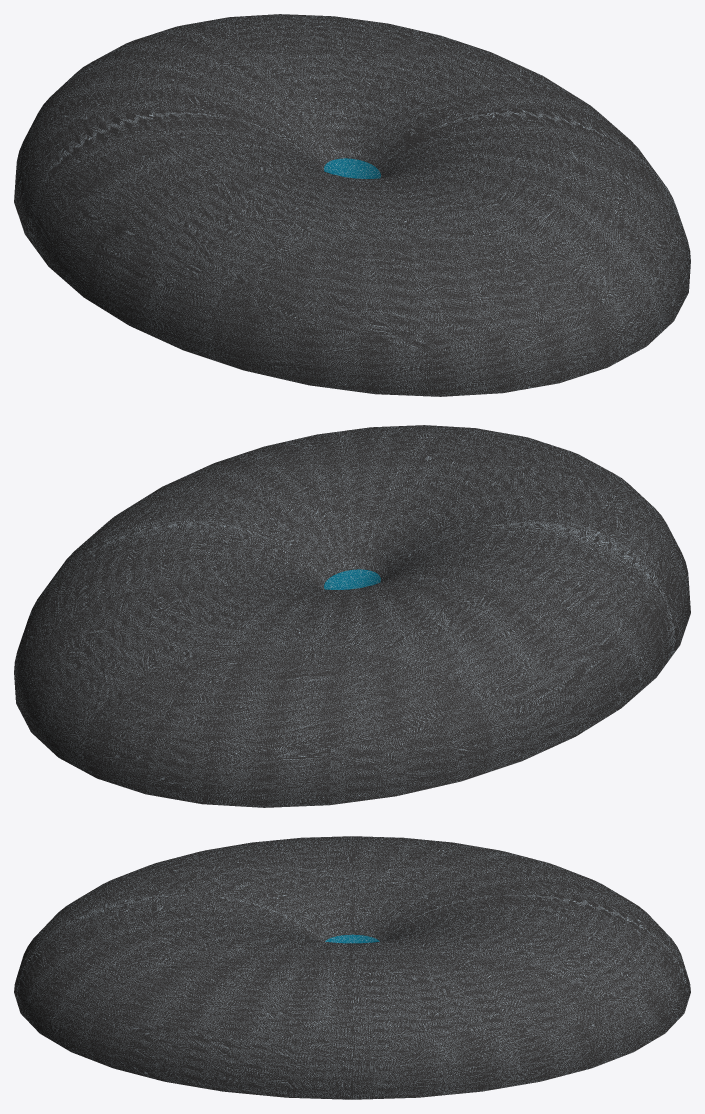
File: WSSS_ZT_JEWEL.dae
3 views of the same model, one above another, from view 1: azimuth 30°, elevation 25°; view 2: azimuth 150°, elevation 25°; view 3: azimuth 270°, elevation 25° (orthographic). The views are drawn at different scales.
Parts seen in each view (by area): view 1: SketchUp (×2); view 2: SketchUp (×2); view 3: SketchUp.
Boxes of the visible parts, x1,y1,x2,y2 form: SketchUp (×2): (14,14,690,396); SketchUp (×2): (14,425,690,807); SketchUp: (14,836,690,1099).
Bounding box in the file's own units: 12402 × 16535 × 2362.
